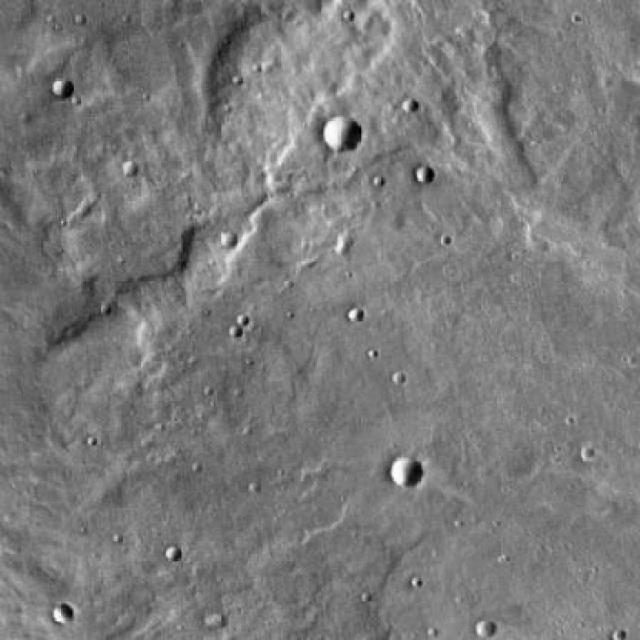crater: (320, 117, 360, 154), (392, 458, 426, 490), (52, 79, 76, 101), (203, 614, 225, 634), (56, 605, 76, 623), (416, 167, 435, 184), (218, 228, 237, 245), (477, 623, 494, 640), (344, 308, 362, 324), (402, 98, 418, 115)
